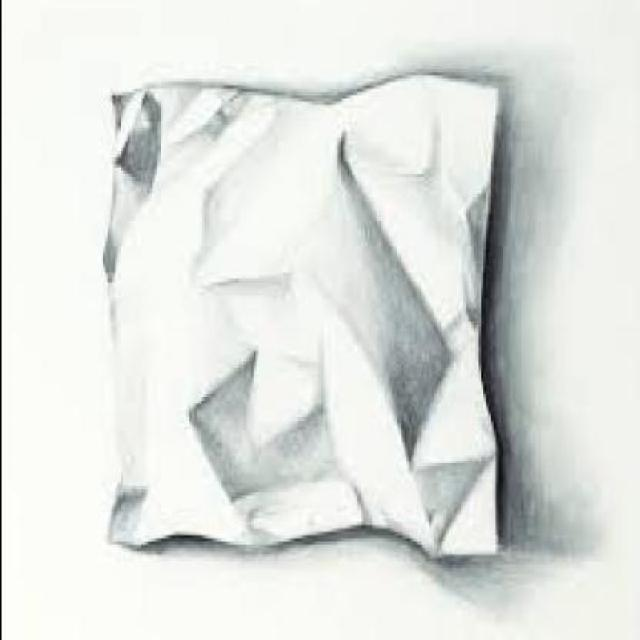PAPER: (99, 72, 499, 565)
